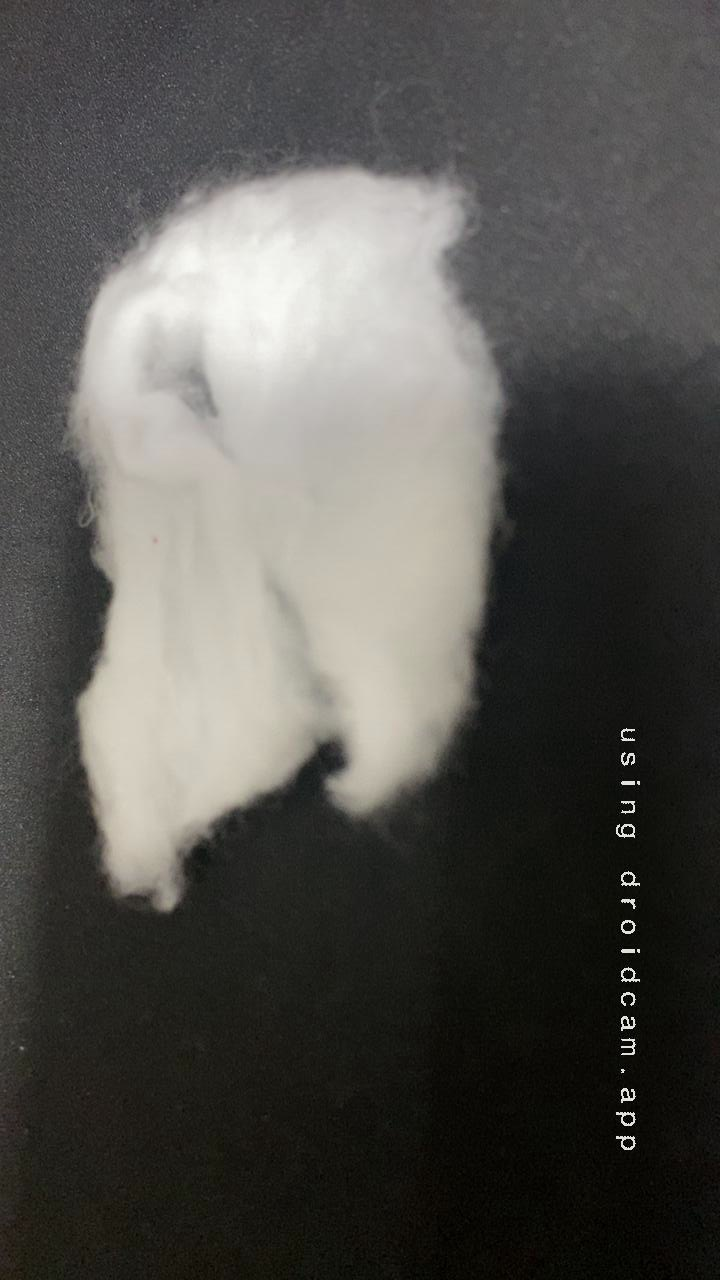cotton: (0, 134, 593, 895)
